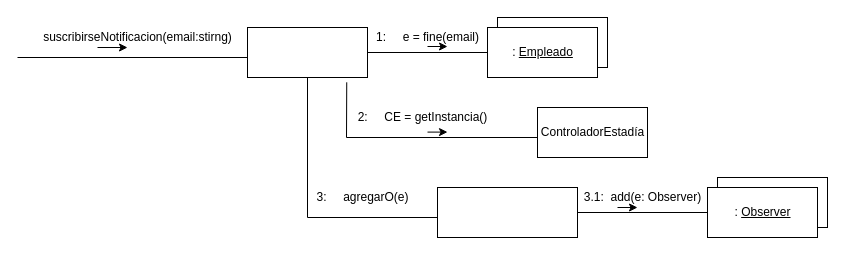
The diagram is 845 pixels wide and 255 high, and some of its shapes have lost their labels. Here are the shapes that lost their labels. From the top down, the box of each, then its label:
(246, 26, 368, 78): : ControladorUsuario
(436, 186, 578, 238): CE: ContorladorEstadía
